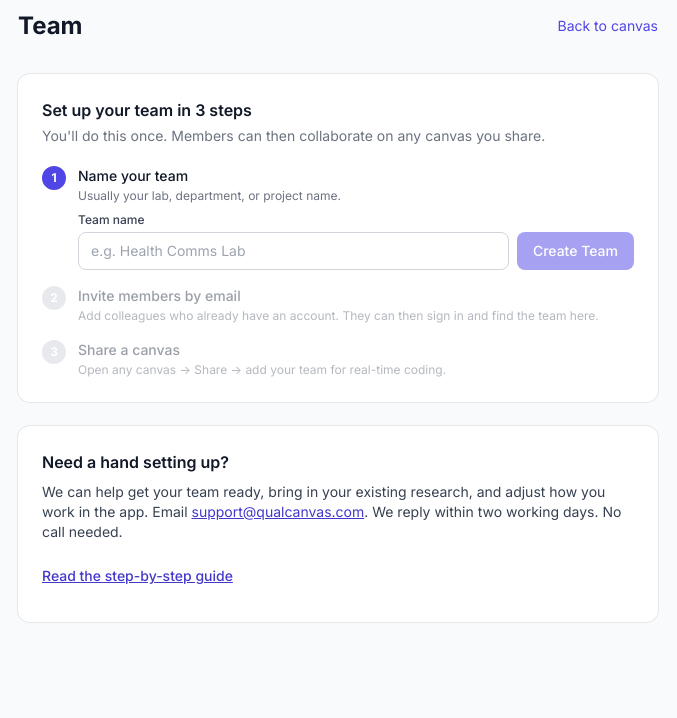
Test: TeamPage › loads full details after creation instead of rendering the raw create response
In the field labelled "Team name": (293, 251) [78, 232, 509, 270], type "Research Team Alpha"
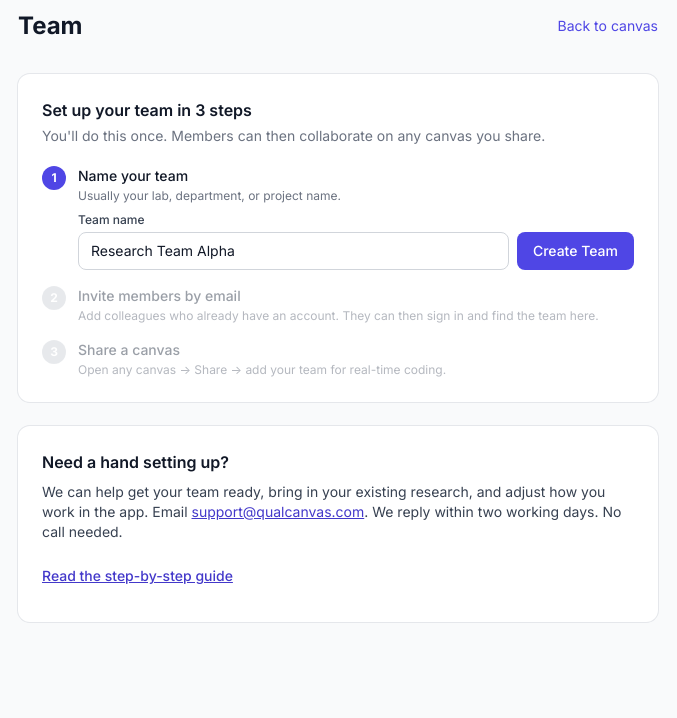
Click the button "Create Team": (575, 251) [517, 232, 634, 270]
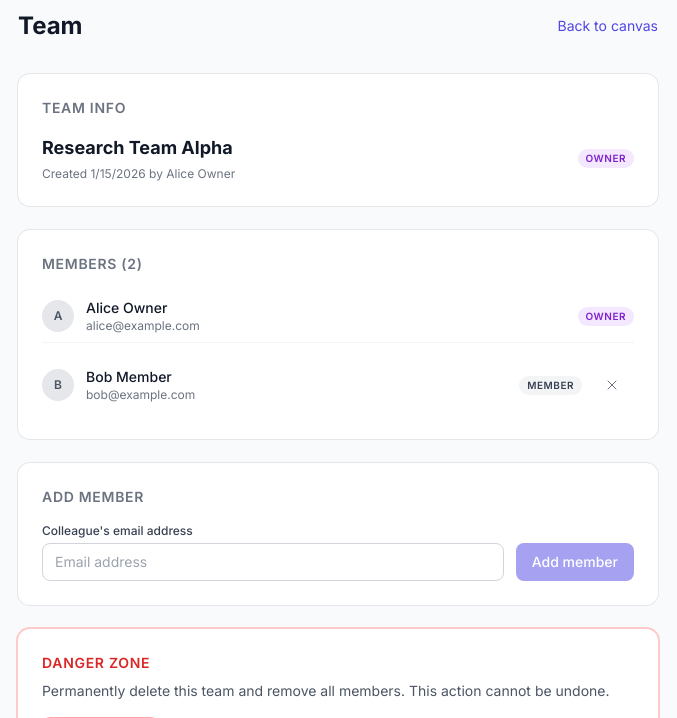
Now the text "Alice Owner" is shown, box [86, 299, 167, 316]
